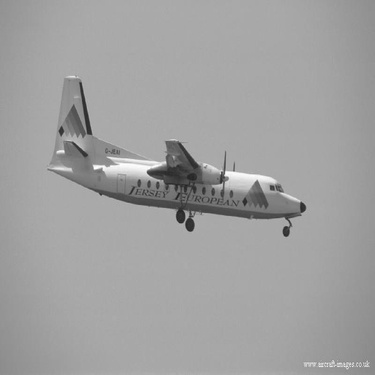airplane: (36, 63, 314, 240)
